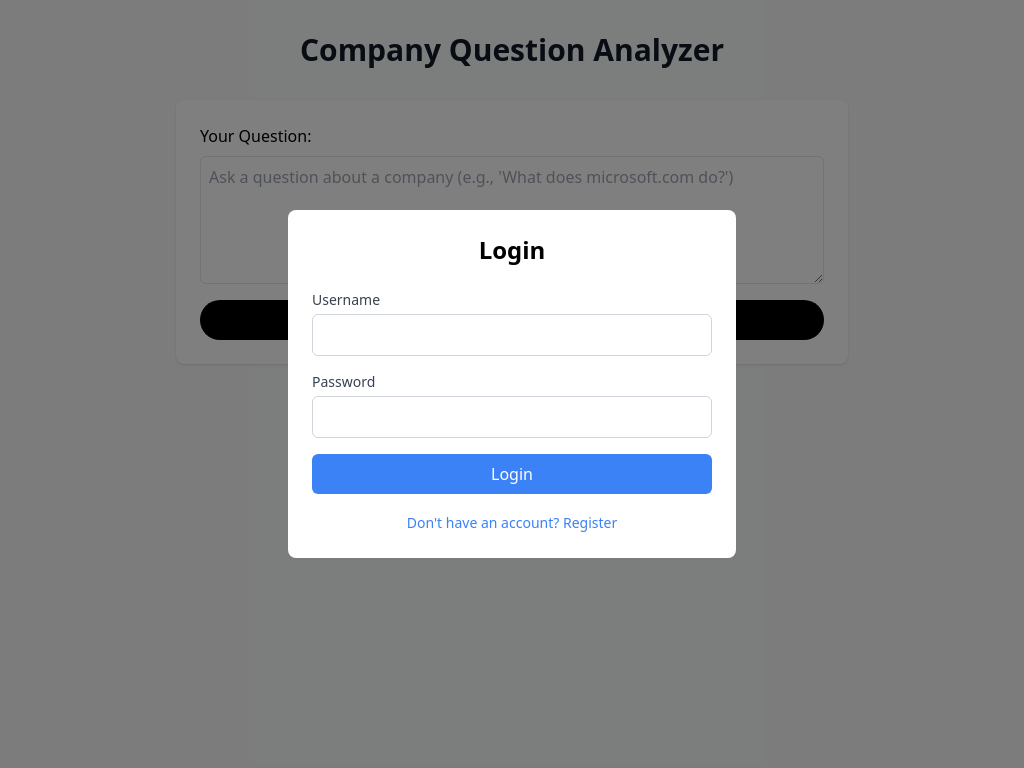
it: Integration Tests › Authentication Integration Tests › should complete login flow successfully
Type "testuser" into the field labelled "Username" at (512, 335), box [312, 314, 712, 356]
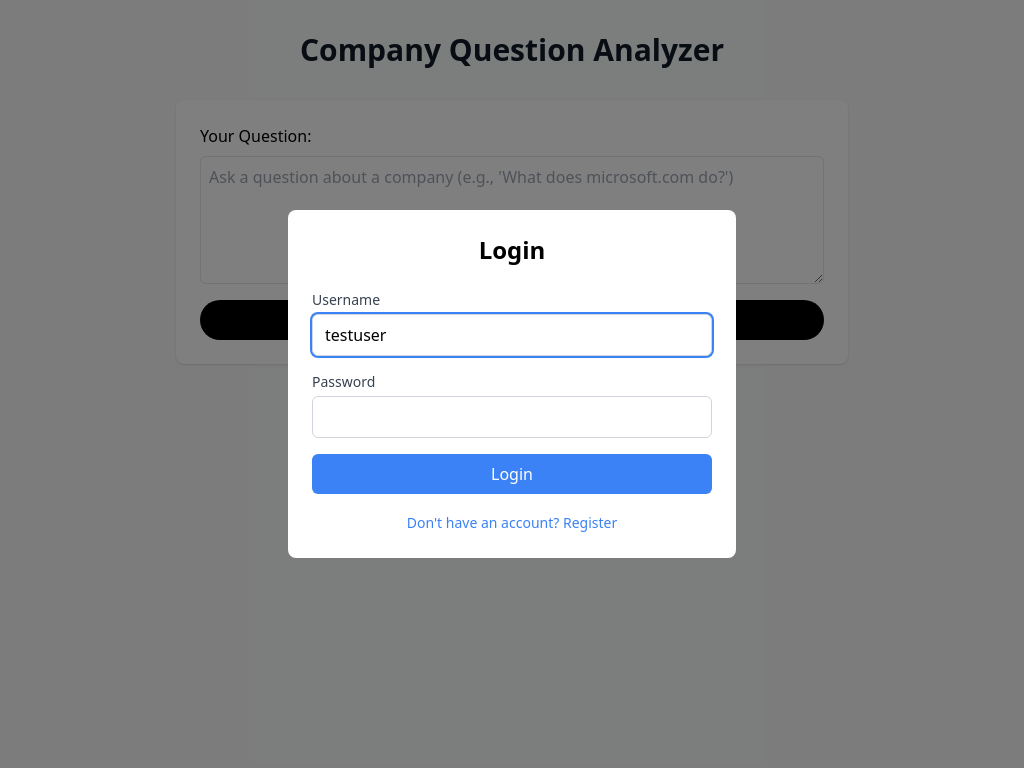
Type "password123" into the password field labelled "Password" at (512, 417), box [312, 396, 712, 438]
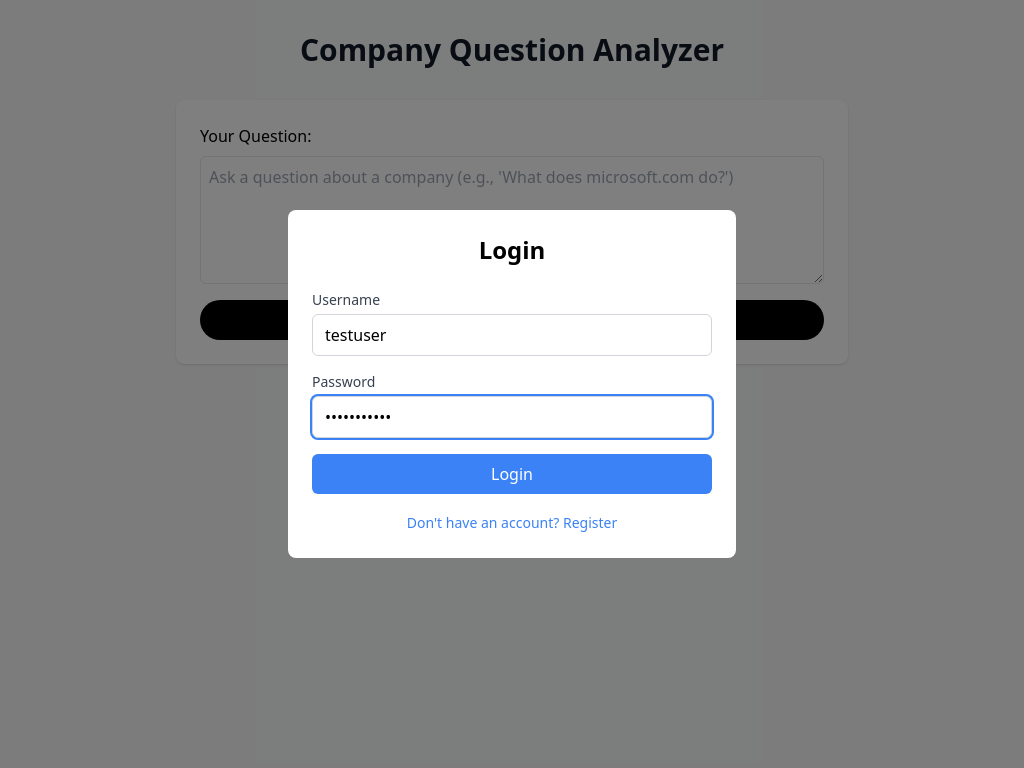
Click the button "Login" at (512, 474), box [312, 454, 712, 494]
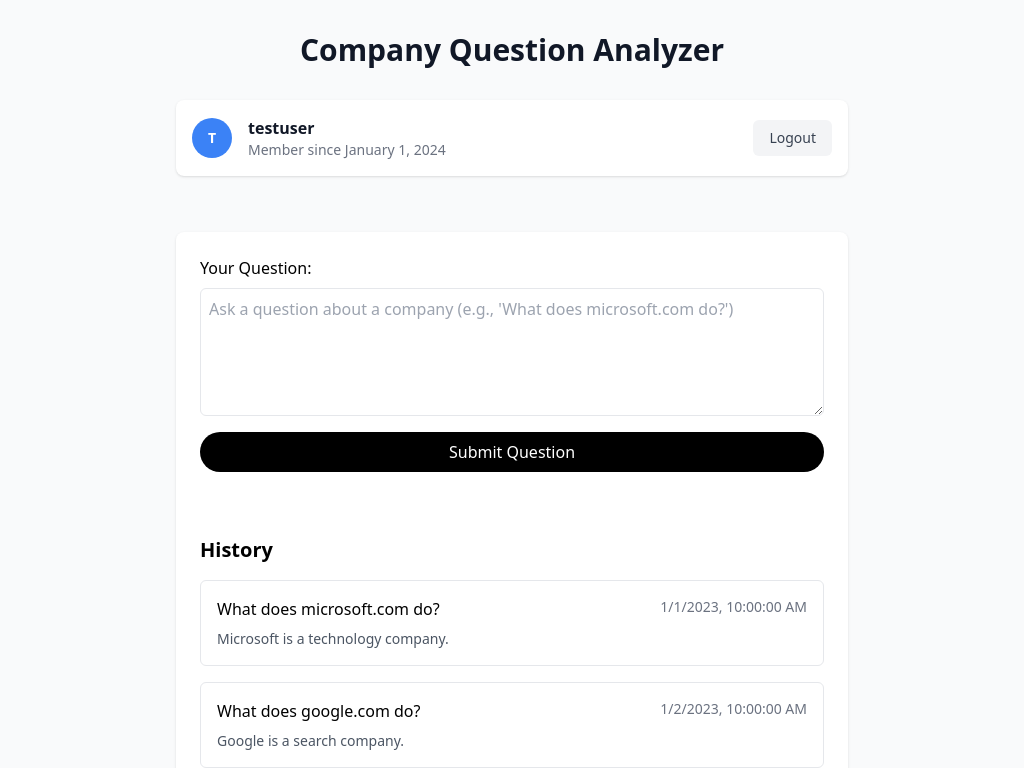
Check: the heading "Login" is gone
Check: the heading "testuser" is shown, box [248, 117, 314, 139]
Check: the text "Member since January 1, 2024" is shown, box [248, 140, 446, 160]
